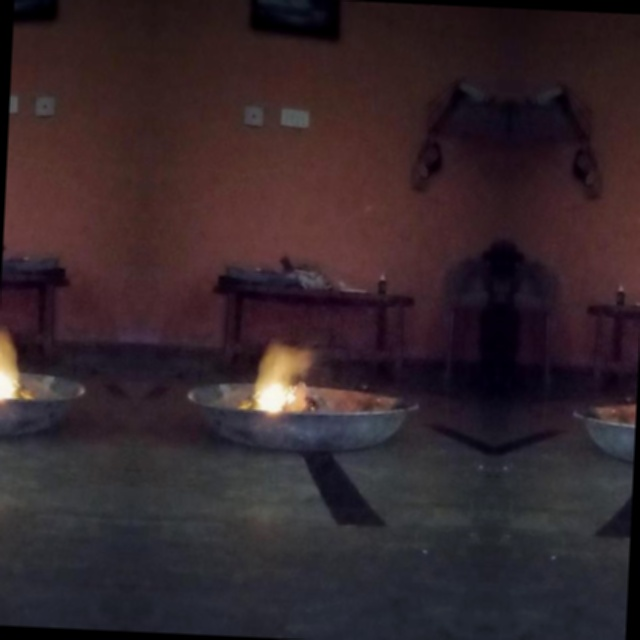fire: (220, 319, 353, 443), (0, 308, 47, 449)
